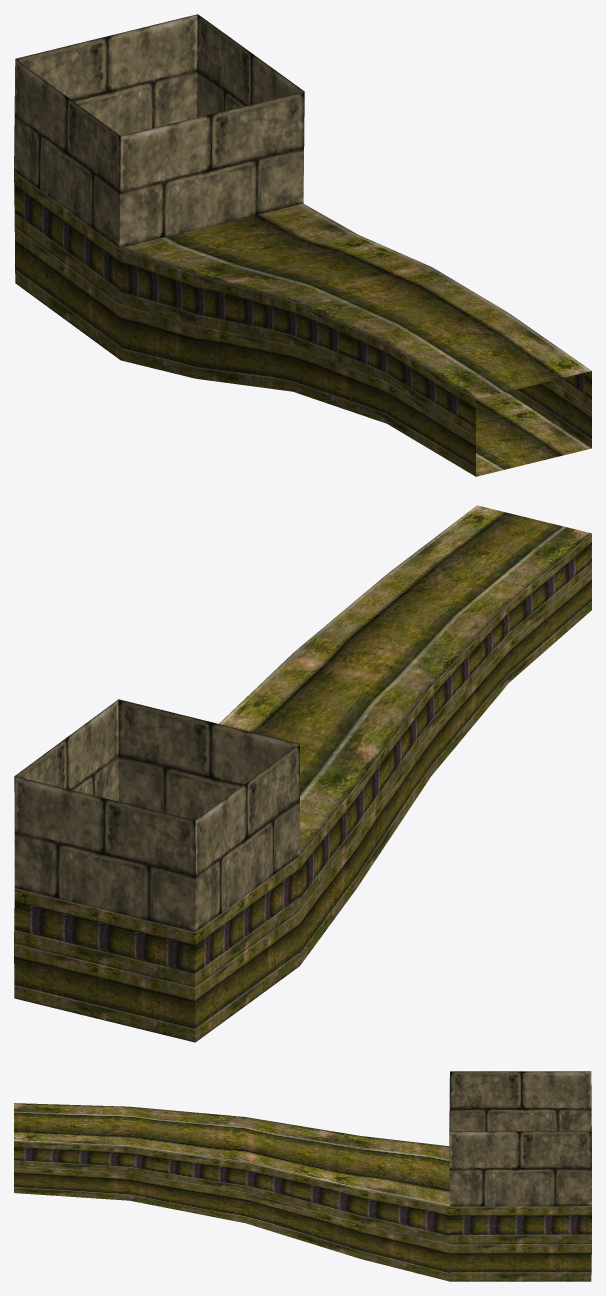
File: OVERHILL_A_01_OBJECT281.fbx
3 renders of one model, top to bottom at view 1: azimuth 30°, elevation 25°; view 2: azimuth 150°, elevation 25°; view 3: azimuth 270°, elevation 25°, orthographic. The views are drawn at different scales.
Visible parts, largest first — view 1: OVERHILL_A_01_OBJECT281; view 2: OVERHILL_A_01_OBJECT281; view 3: OVERHILL_A_01_OBJECT281.
Part boxes in pixels (<box>): OVERHILL_A_01_OBJECT281: <box>14,14,591,476</box>; OVERHILL_A_01_OBJECT281: <box>14,505,591,1042</box>; OVERHILL_A_01_OBJECT281: <box>14,1071,591,1281</box>.
Bounding box in the file's own units: 18201 × 21173 × 73716.
3 materials, 3 textured.
